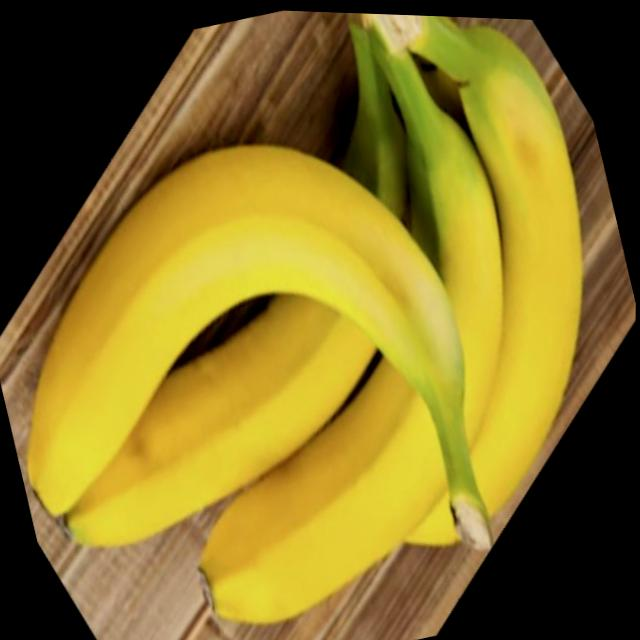Banana: (71, 2, 640, 640), (0, 100, 507, 640)
